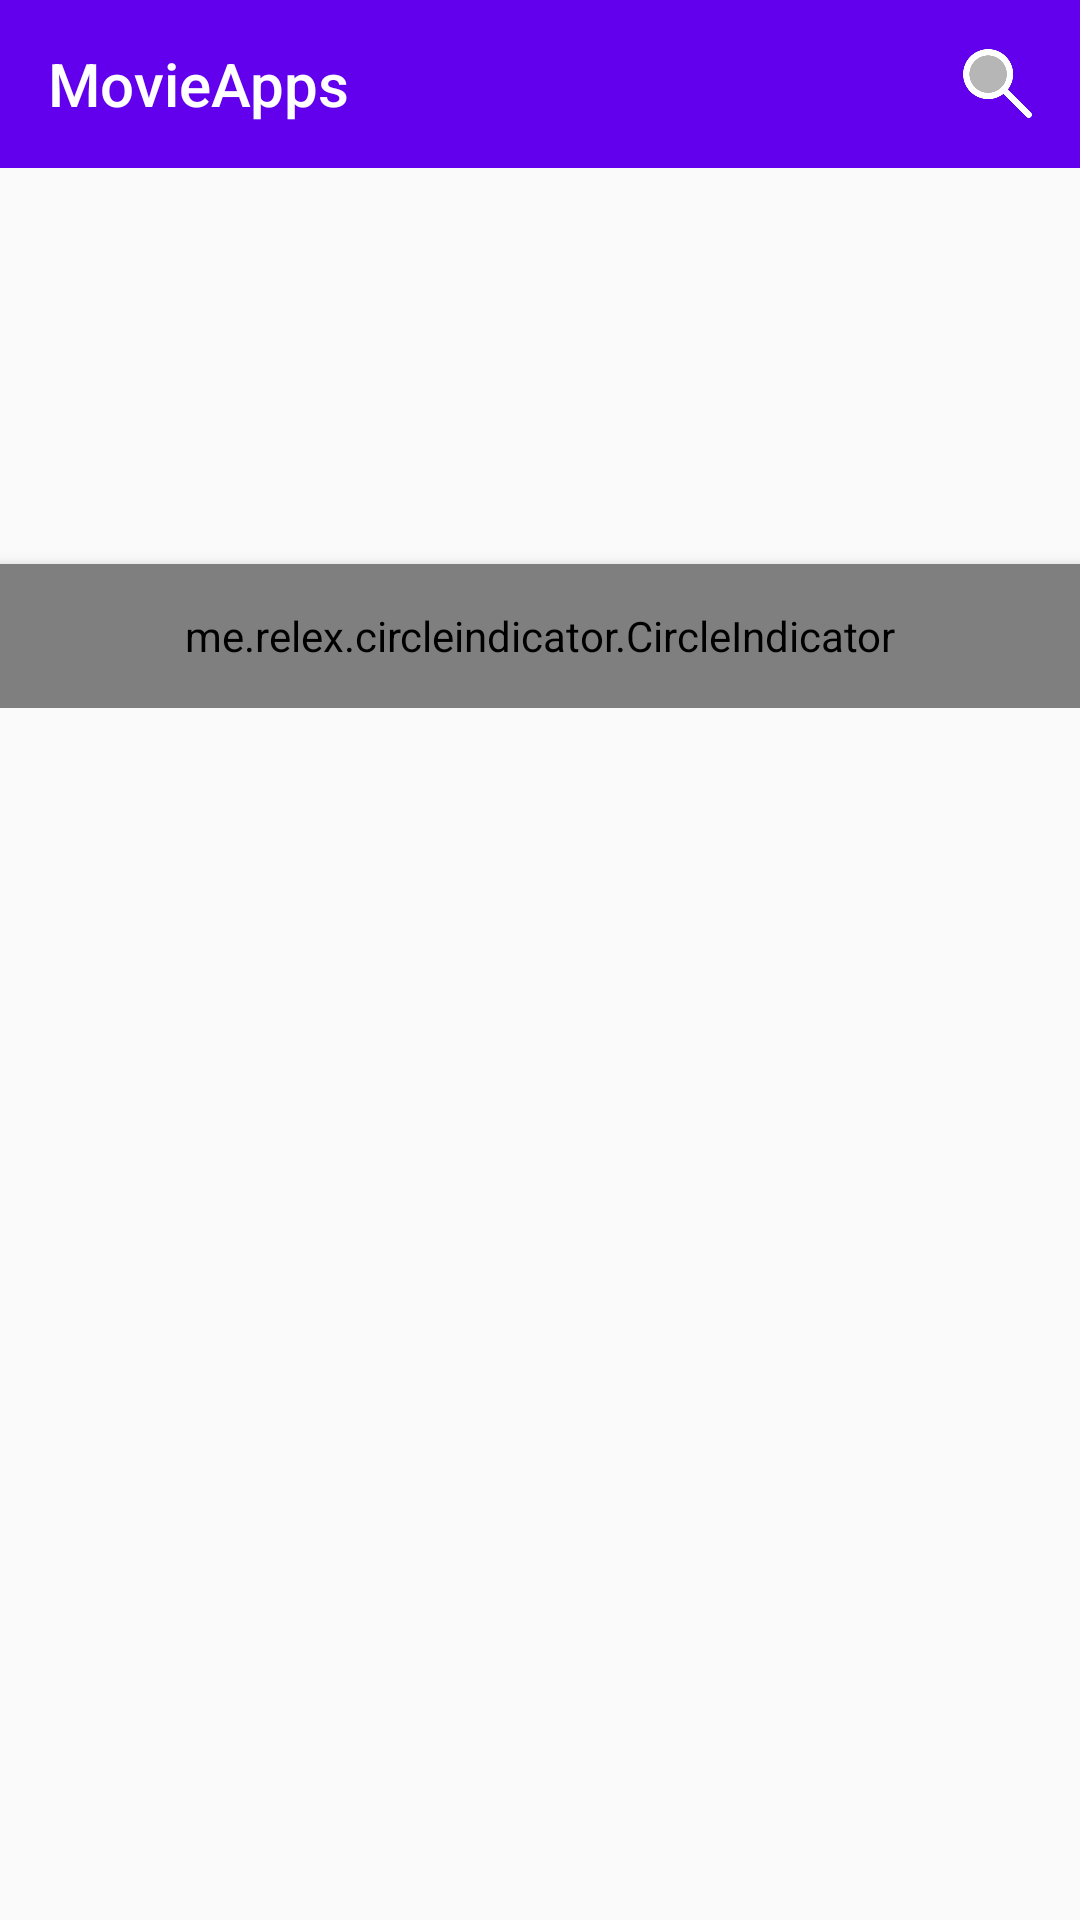

Icon bounding boxes for this 1080 × 1920 phone screenshot, format (x1, y1, x2, y2):
search: (963, 49, 1032, 118)
